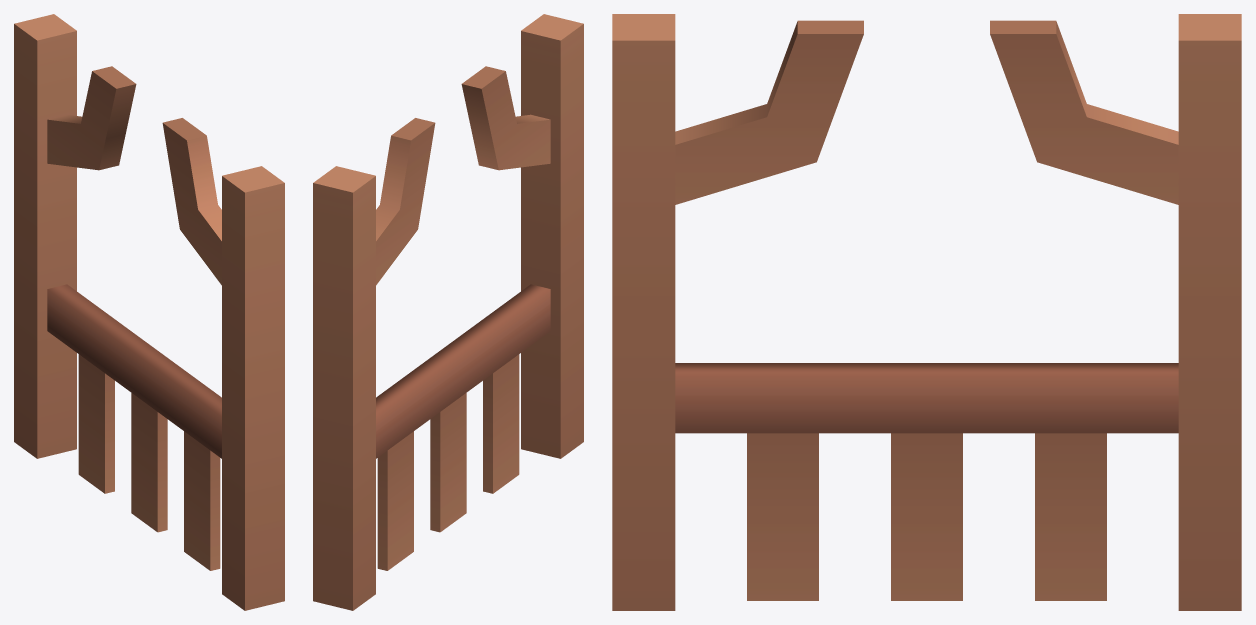
File: balcony-wall-fence.glb
3 renders of one model, left to right at view 1: azimuth 30°, elevation 25°; view 2: azimuth 150°, elevation 25°; view 3: azimuth 270°, elevation 25°, orthographic. The views are drawn at different scales.
Visible parts, largest first — view 1: balcony-wall-fence; view 2: balcony-wall-fence; view 3: balcony-wall-fence.
Boxes of the visible parts, x1,y1,x2,y2 form: balcony-wall-fence: (14,14,284,610); balcony-wall-fence: (313,14,583,610); balcony-wall-fence: (612,14,1241,610).
Size of the model in its own units: 0.1 by 1 by 1.
Materials: 1 (1 with a texture image).
